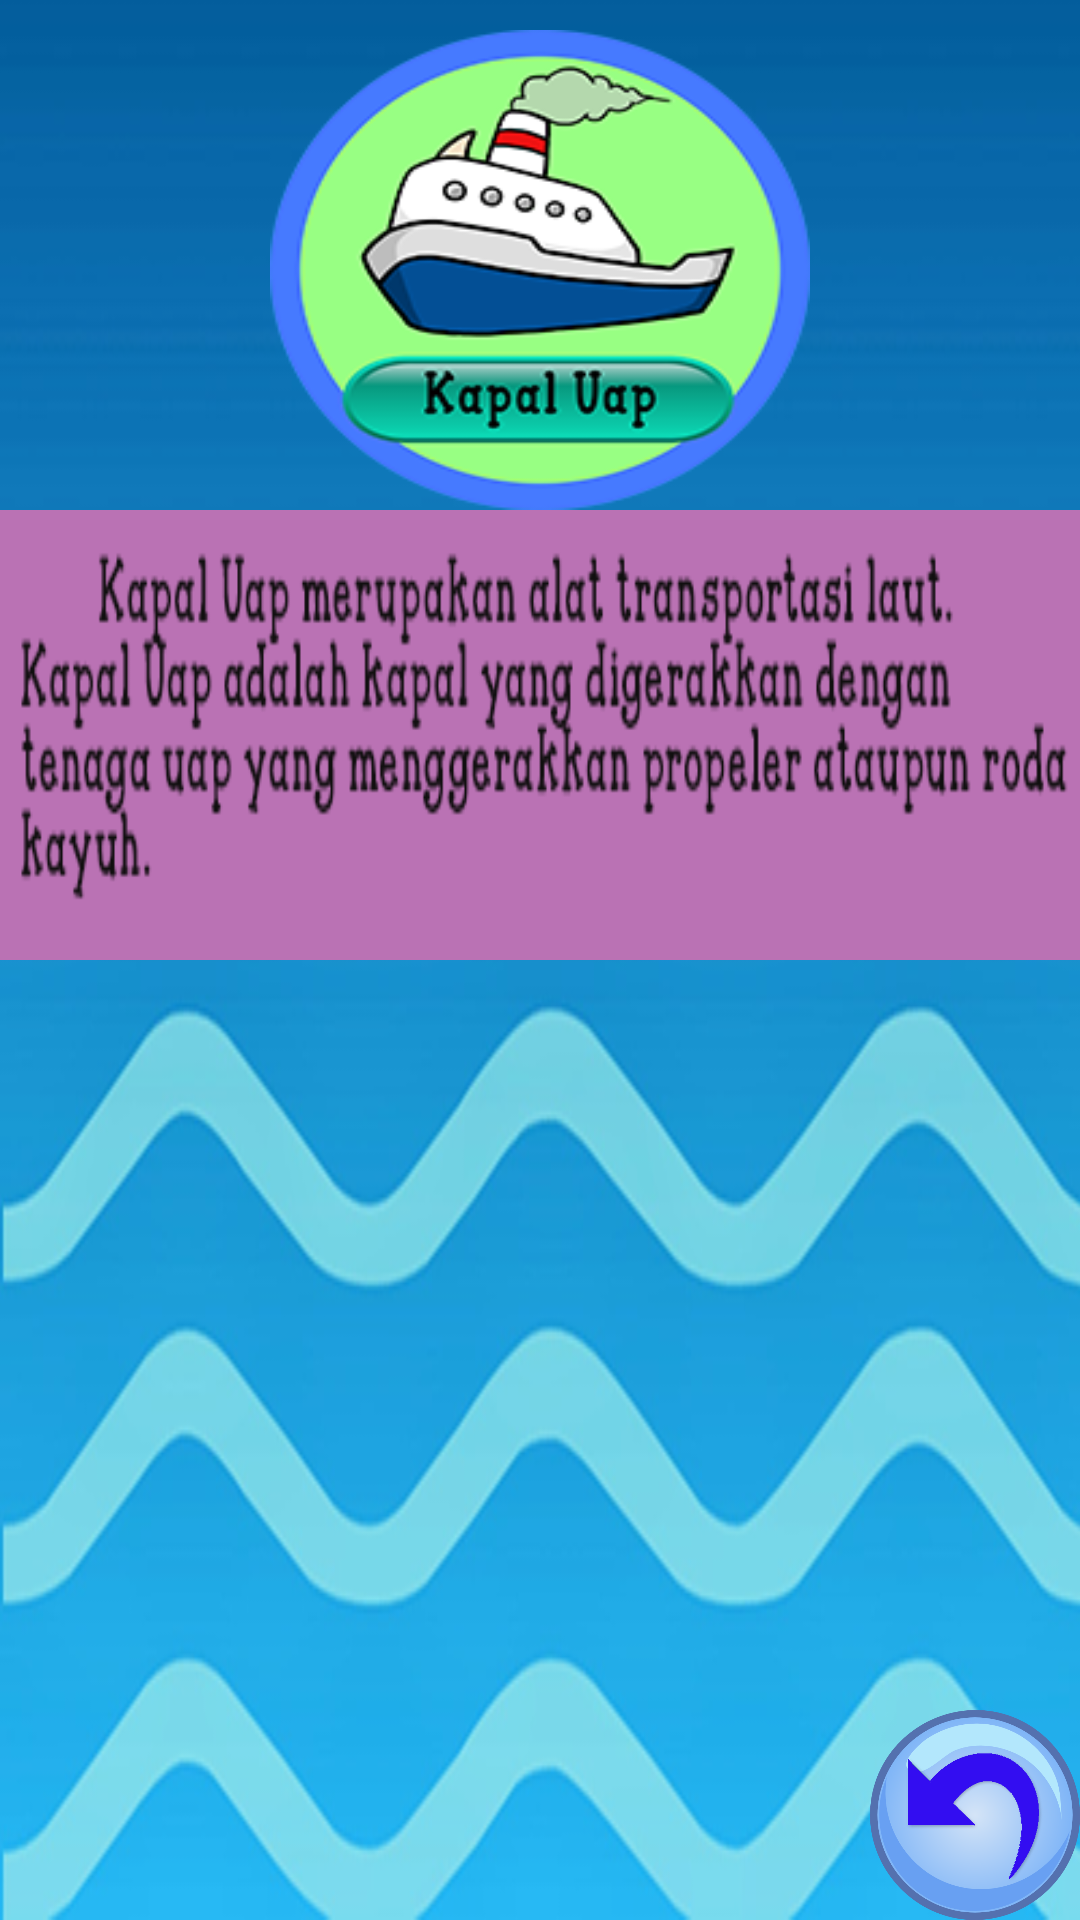

Point at icon controls on the screen. Image size 1080 × 1920, points as point (x, y).
back: point (975, 1815)
